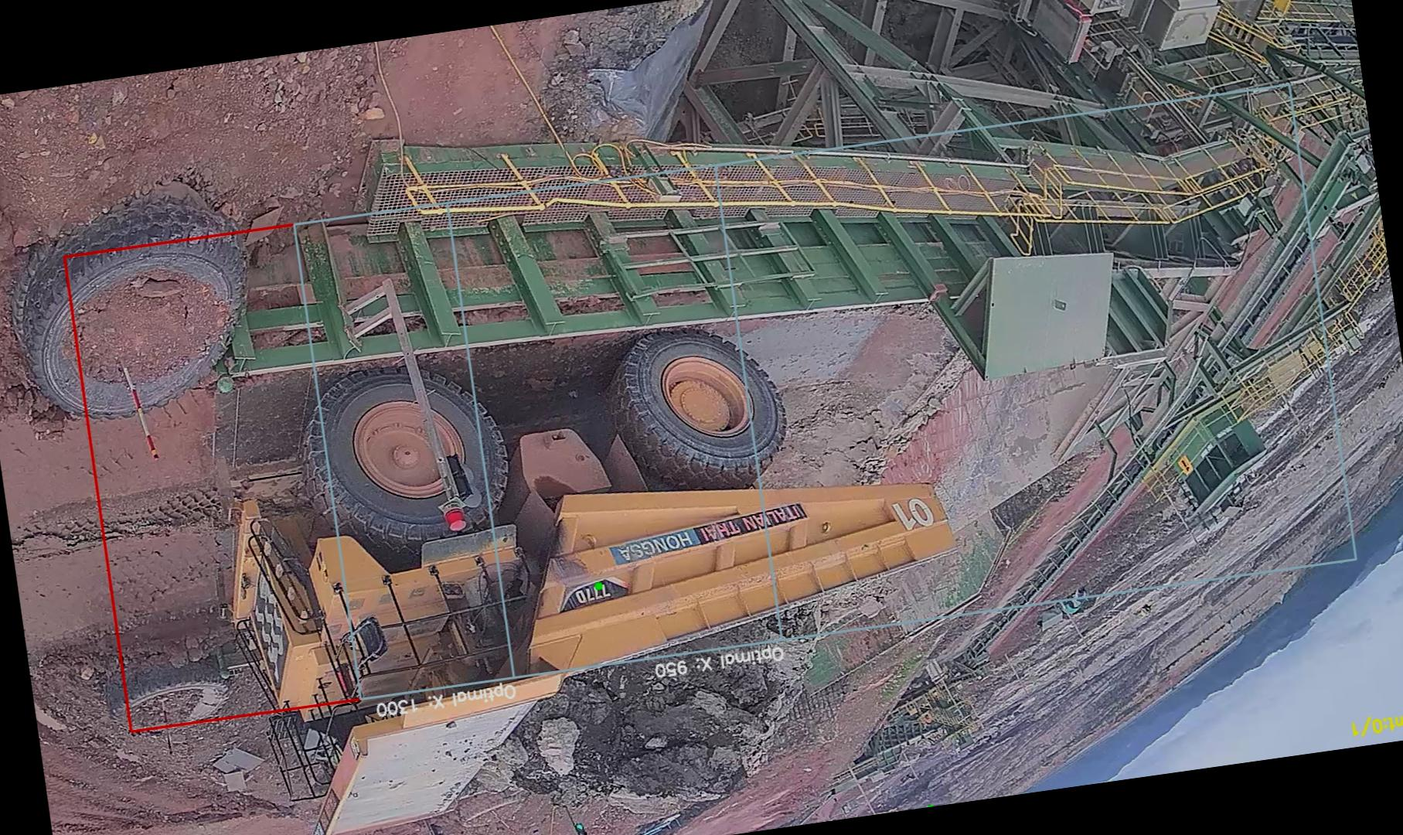company: (599, 495, 814, 575)
full_load: (520, 625, 811, 832)
mining_truck: (174, 285, 1002, 835)
tail_number: (872, 481, 946, 551)
truck_size: (552, 572, 633, 619)
